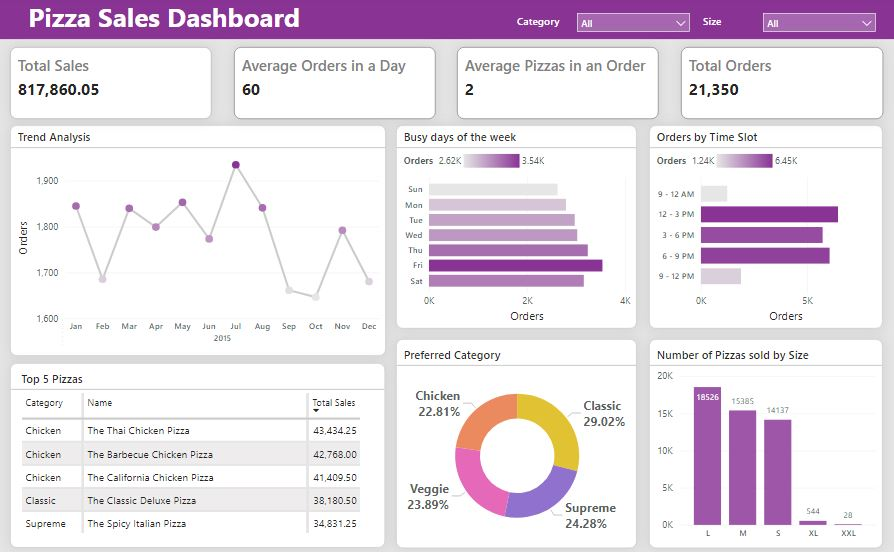

What the dashboard file says about the page in this screenshot:
{"tool":"powerbi","page":{"name":"Pizza Sales Dashboard","canvas":[1280,800],"ordinal":0},"visuals":[{"type":"textbox","box":[0,0,1280,62.9],"z":0},{"type":"lineChart","title":"Trend Analysis","fields":{"Category":["Date Table.Year","Date Table.Month"],"Y":["All Measures.Orders"]},"box":[17.1,185.7,537.1,330],"z":1000},{"type":"clusteredBarChart","title":"Busy days of the week","fields":{"Category":["Date Table.Day"],"Y":["All Measures.Orders"]},"box":[568.6,185.7,344.3,291.4],"z":2000},{"type":"clusteredBarChart","fields":{"Category":["Orders.Time Slot"],"Y":["All Measures.Orders"]},"box":[930,185.7,334.3,291.4],"z":3000},{"type":"donutChart","title":"Preferred Category","fields":{"Category":["Pizza Types.Category"],"Y":["All Measures.Orders"]},"box":[568.6,491.4,344.3,298.6],"z":4000},{"type":"columnChart","title":"Number of Pizzas sold by Size","fields":{"Category":["Pizzas.Size"],"Y":["All Measures.Pizzas sold"]},"box":[930,491.4,334.3,298.6],"z":5000},{"type":"multiRowCard","title":"Total Sales","fields":{"Values":["All Measures.Total Sales"]},"box":[17.1,74.3,288,102.9],"z":6000},{"type":"tableEx","title":"Top 5 Pizzas","fields":{"Values":["Pizza Types.Category","Pizza Types.Name","All Measures.Total Sales"]},"box":[17.1,525.7,535.7,264.3],"z":7000},{"type":"multiRowCard","title":"Average Orders in a Day","fields":{"Values":["All Measures.Avg Orders in a day"]},"box":[336.7,74.3,288,102.9],"z":9000},{"type":"multiRowCard","title":"Average Pizzas in an Order","fields":{"Values":["All Measures.Avg Pizzas in an Order"]},"box":[656.2,74.3,288,102.9],"z":10000},{"type":"multiRowCard","title":"Total Orders","fields":{"Values":["All Measures.Orders"]},"box":[975.7,74.3,288.6,102.9],"z":11000},{"type":"group","id":"g1","title":"CategorySlicer","box":[741.2,15,256.2,47.5],"z":12000},{"type":"slicer","fields":{"Values":["Pizza Types.Category"]},"box":[816.2,15,181.2,47.5],"z":12000,"group":"g1"},{"type":"slicer","fields":{"Values":["Pizzas.Size"]},"box":[1082.5,15,181.2,47.5],"z":12000,"group":"g2"},{"type":"group","id":"g2","title":"CategorySlicer","box":[1007.5,15,256.2,47.5],"z":13000},{"type":"shape","title":"Category","box":[741.2,25.9,80,23.8],"z":13000,"group":"g1"},{"type":"shape","title":"Size","box":[1007.5,25.9,80,23.8],"z":13000,"group":"g2"}]}

Visuals, with their boxes in screenshot pixels (x1, y1, x2, y2), scaled from the page's 1280x800 canvas onto the 894x552 screenshot:
textbox: {"left": 0, "top": 0, "right": 893, "bottom": 43}
"Trend Analysis" lineChart: {"left": 12, "top": 128, "right": 387, "bottom": 356}
"Busy days of the week" clusteredBarChart: {"left": 397, "top": 128, "right": 638, "bottom": 329}
clusteredBarChart - Orders.Time Slot x All Measures.Orders: {"left": 650, "top": 128, "right": 883, "bottom": 329}
"Preferred Category" donutChart: {"left": 397, "top": 339, "right": 638, "bottom": 545}
"Number of Pizzas sold by Size" columnChart: {"left": 650, "top": 339, "right": 883, "bottom": 545}
"Total Sales" multiRowCard: {"left": 12, "top": 51, "right": 213, "bottom": 122}
"Top 5 Pizzas" tableEx: {"left": 12, "top": 363, "right": 386, "bottom": 545}
"Average Orders in a Day" multiRowCard: {"left": 235, "top": 51, "right": 436, "bottom": 122}
"Average Pizzas in an Order" multiRowCard: {"left": 458, "top": 51, "right": 659, "bottom": 122}
"Total Orders" multiRowCard: {"left": 681, "top": 51, "right": 883, "bottom": 122}
"CategorySlicer" group: {"left": 518, "top": 10, "right": 697, "bottom": 43}
slicer - Pizza Types.Category: {"left": 570, "top": 10, "right": 697, "bottom": 43}
slicer - Pizzas.Size: {"left": 756, "top": 10, "right": 883, "bottom": 43}
"CategorySlicer" group: {"left": 704, "top": 10, "right": 883, "bottom": 43}
"Category" shape: {"left": 518, "top": 18, "right": 574, "bottom": 34}
"Size" shape: {"left": 704, "top": 18, "right": 760, "bottom": 34}
